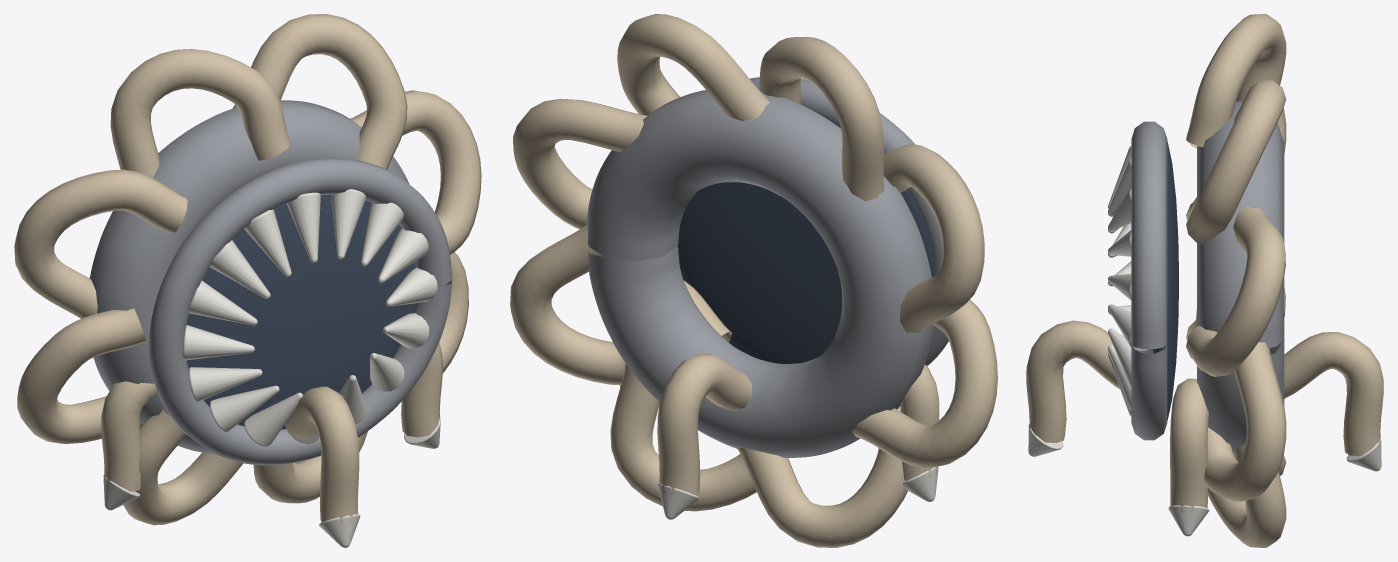
Rendered from bio_spiral_maw_08_near.glb.
3 renders of one model, left to right at view 1: azimuth 30°, elevation 25°; view 2: azimuth 150°, elevation 25°; view 3: azimuth 270°, elevation 25°, orthographic. The views are drawn at different scales.
Parts seen in each view (by area): view 1: Recessed mouth cavity, Raised oral lip, Rear muscular torus, Inward tooth, Coiling oral limb.002, Coiling oral limb.003, Coiling oral limb.001, Coiling oral limb.004, Coiling oral limb, Coiling oral limb.005, Crooked support.002, Crooked support.001 (+5 smaller); view 2: Rear muscular torus, Recessed mouth cavity, Coiling oral limb.004, Coiling oral limb.003, Coiling oral limb.002, Coiling oral limb.001, Coiling oral limb, Coiling oral limb.005, Coiling oral limb.007, Crooked support, Coiling oral limb.006, Raised oral lip (+4 smaller); view 3: Rear muscular torus, Raised oral lip, Coiling oral limb, Coiling oral limb.007, Coiling oral limb.002, Coiling oral limb.001, Crooked support, Crooked support.002, Crooked support.003, Inward tooth, Coiling oral limb.006, Recessed mouth cavity (+3 smaller).
Boxes of the visible parts, <box> form: Recessed mouth cavity: <box>186,194,415,429</box>; Raised oral lip: <box>149,158,452,465</box>; Rear muscular torus: <box>89,100,409,453</box>; Inward tooth: <box>182,189,437,446</box>; Coiling oral limb.002: <box>110,49,290,177</box>; Coiling oral limb.003: <box>14,169,187,318</box>; Coiling oral limb.001: <box>232,14,407,169</box>; Coiling oral limb.004: <box>17,308,145,443</box>; Coiling oral limb: <box>350,90,481,254</box>; Coiling oral limb.005: <box>123,409,243,525</box>; Crooked support.002: <box>284,386,359,524</box>; Crooked support.001: <box>101,381,157,491</box>; Rear muscular torus: <box>586,90,933,457</box>; Recessed mouth cavity: <box>678,112,935,363</box>; Coiling oral limb.004: <box>852,300,997,468</box>; Coiling oral limb.003: <box>883,144,984,332</box>; Coiling oral limb.002: <box>759,37,884,201</box>; Coiling oral limb.001: <box>617,14,769,121</box>; Coiling oral limb: <box>513,98,647,229</box>; Coiling oral limb.005: <box>736,406,907,547</box>; Coiling oral limb.007: <box>510,224,624,385</box>; Crooked support: <box>657,353,751,495</box>; Coiling oral limb.006: <box>610,363,756,511</box>; Raised oral lip: <box>750,77,948,365</box>; Rear muscular torus: <box>1197,101,1284,454</box>; Raised oral lip: <box>1131,121,1167,440</box>; Coiling oral limb: <box>1186,206,1285,376</box>; Coiling oral limb.007: <box>1204,342,1286,501</box>; Coiling oral limb.002: <box>1186,14,1286,147</box>; Coiling oral limb.001: <box>1186,80,1286,244</box>; Crooked support: <box>1284,332,1383,455</box>; Crooked support.002: <box>1026,320,1119,442</box>; Crooked support.003: <box>1170,378,1208,512</box>; Inward tooth: <box>1108,146,1148,415</box>; Coiling oral limb.006: <box>1208,444,1286,547</box>; Recessed mouth cavity: <box>1153,141,1178,420</box>.
Bounding box in the file's own units: 2.56 × 2.57 × 1.8.
